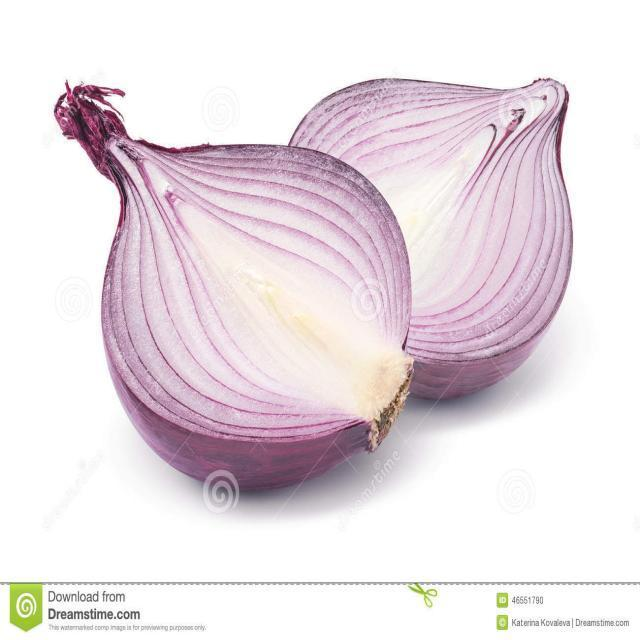onion: (52, 75, 419, 496), (276, 75, 575, 404)
